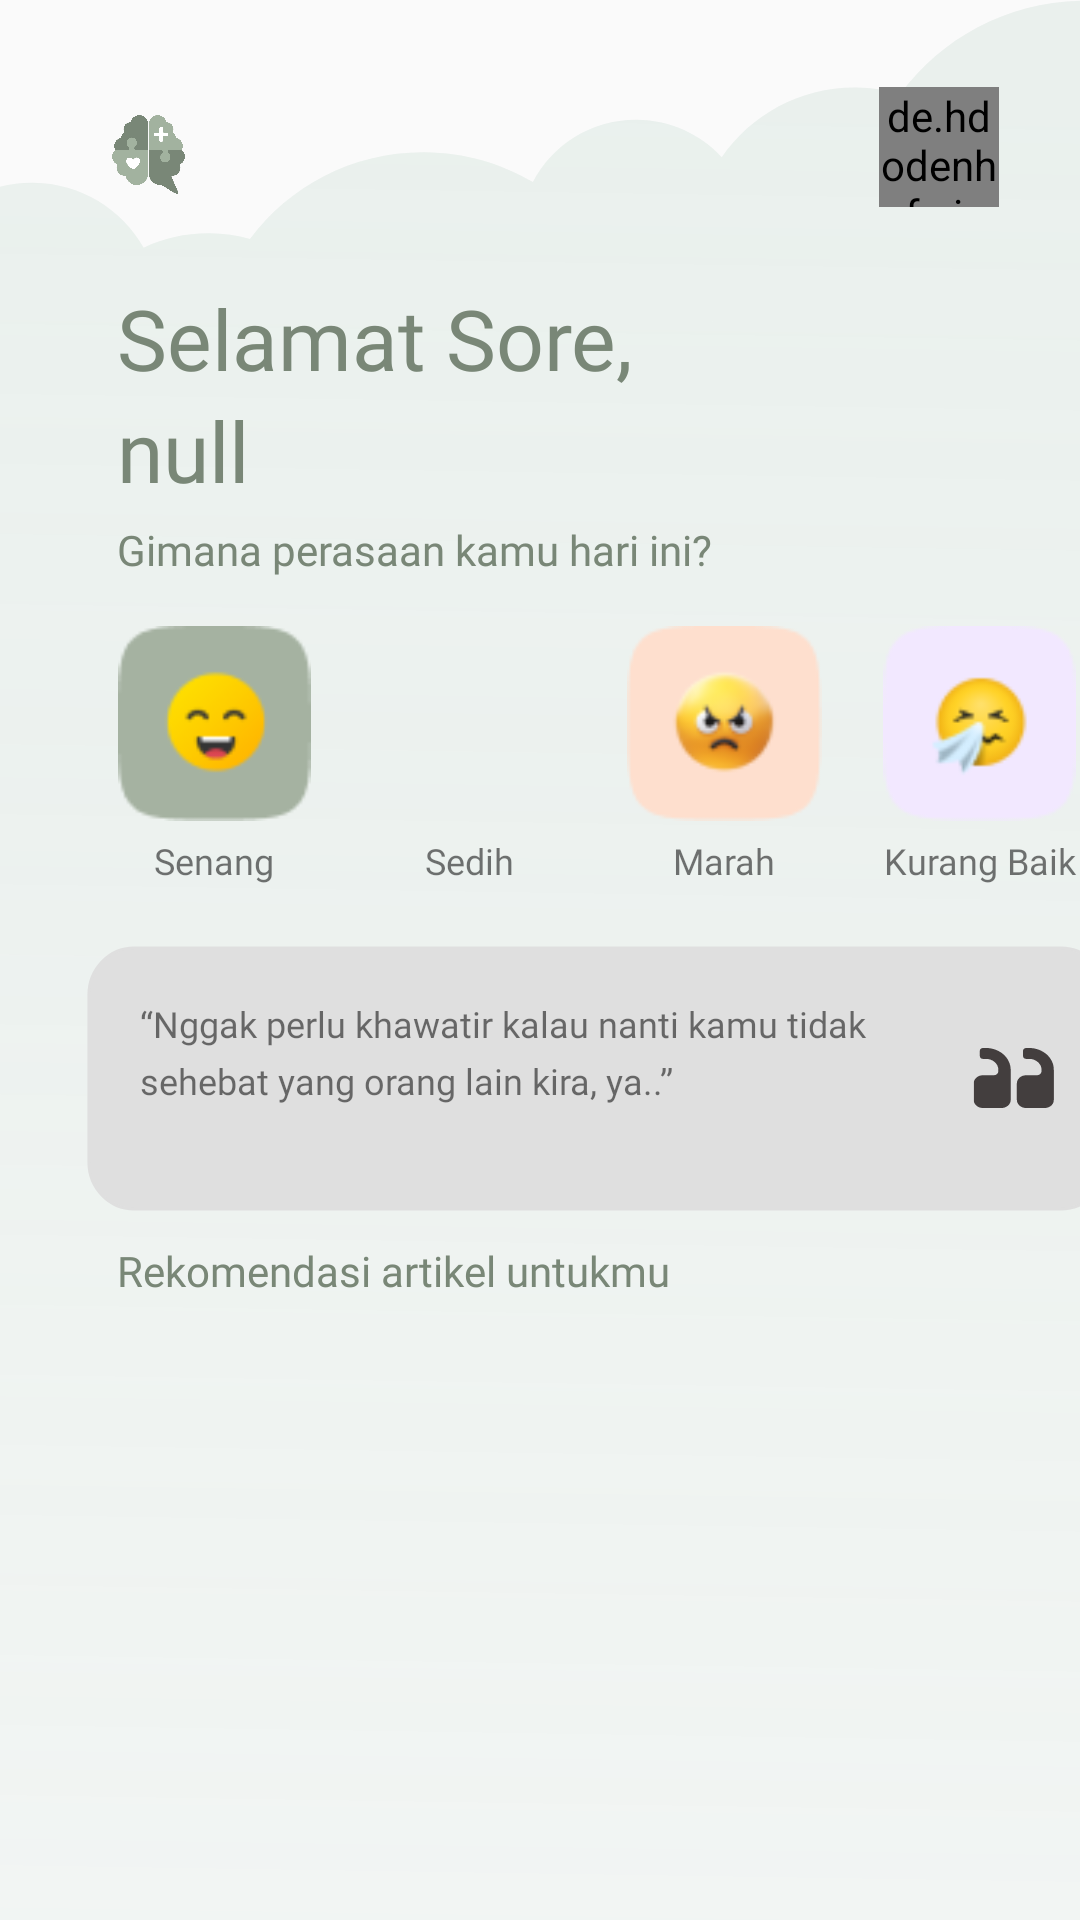

Icon bounding boxes for this 1080 × 1920 phone screenshot, format [left=x1, top=y1, right=x2, bottom=y2]:
feelbad: [left=935, top=677, right=1026, bottom=772]
